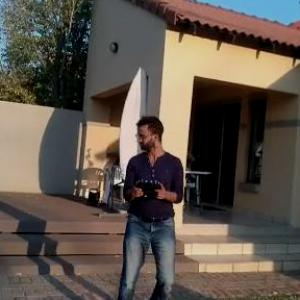follow: (114, 110, 188, 299)
